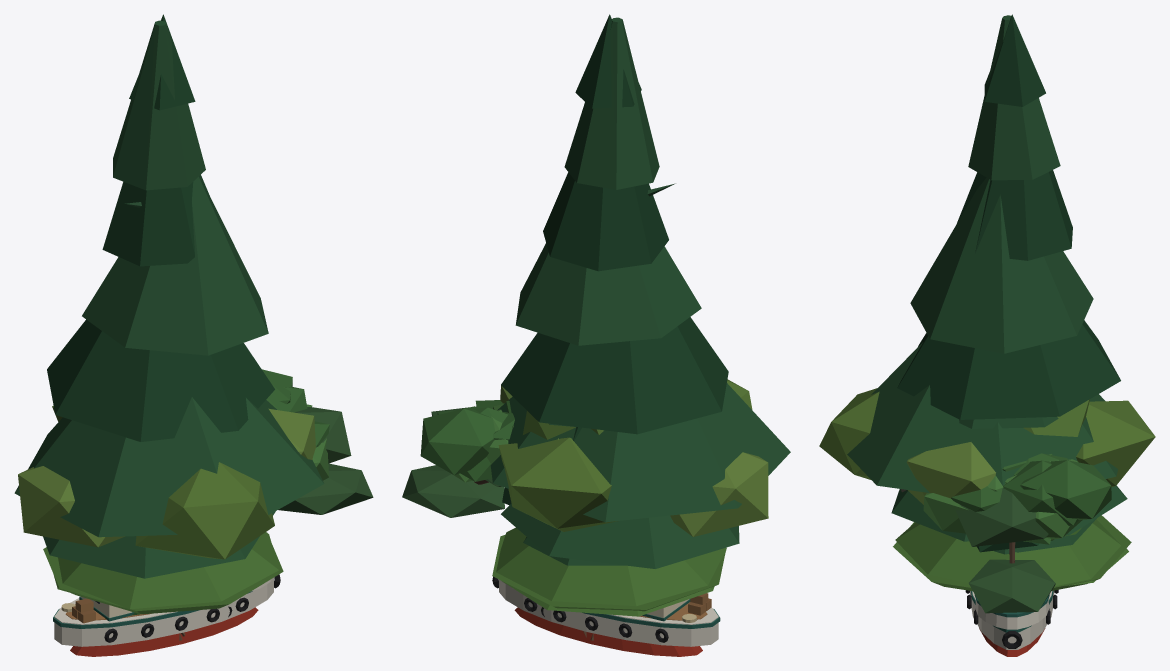
The model's file is protos.glb.
3 views of the same model, side by side, from view 1: azimuth 30°, elevation 25°; view 2: azimuth 150°, elevation 25°; view 3: azimuth 270°, elevation 25° (orthographic). The views are drawn at different scales.
Parts seen in each view (by area): view 1: PT_fir_b, PT_oak_a, PT_cedar_a, PT_fir_a, BOAT_T1__paint_hull, PT_pine_a, BOAT_T1, PT_madrona_a, BOAT_T1__paint_stripe; view 2: PT_fir_b, PT_oak_a, PT_cedar_a, PT_fir_a, PT_madrona_a, PT_pine_a, BOAT_T1__paint_hull, BOAT_T1, PT_alder_a, BOAT_T1__paint_stripe; view 3: PT_fir_b, PT_oak_a, PT_madrona_a, PT_cedar_a, PT_pine_a, PT_fir_a, BOAT_T1__paint_hull, PT_alder_a, BOAT_T1, PT_fir_c.
Part boxes in pixels (x1,y1,x2,y2): PT_fir_b: (14, 14, 324, 537); PT_oak_a: (18, 405, 315, 559); PT_cedar_a: (43, 532, 283, 640); PT_fir_a: (43, 511, 275, 578); BOAT_T1__paint_hull: (54, 577, 273, 646); PT_pine_a: (278, 407, 373, 514); BOAT_T1: (61, 574, 280, 656); PT_madrona_a: (262, 369, 329, 480); BOAT_T1__paint_stripe: (53, 591, 252, 628); PT_fir_b: (490, 14, 790, 522); PT_oak_a: (498, 379, 768, 536); PT_cedar_a: (492, 527, 726, 640); PT_fir_a: (501, 423, 739, 568); PT_madrona_a: (420, 400, 514, 482); PT_pine_a: (402, 406, 511, 517); BOAT_T1__paint_hull: (499, 579, 718, 646); BOAT_T1: (492, 576, 711, 656); PT_alder_a: (523, 411, 603, 439); BOAT_T1__paint_stripe: (582, 609, 720, 628); PT_fir_b: (847, 14, 1120, 492); PT_oak_a: (819, 388, 1155, 504); PT_madrona_a: (923, 453, 1111, 544); PT_cedar_a: (893, 515, 1131, 591); PT_pine_a: (955, 488, 1055, 613); PT_fir_a: (891, 417, 1127, 541); BOAT_T1__paint_hull: (970, 591, 1054, 649); PT_alder_a: (1023, 399, 1089, 436); BOAT_T1: (965, 589, 1058, 656); PT_fir_c: (994, 518, 1096, 554).
Bounding box in the file's own units: 14.95 × 25.88 × 12.92.
